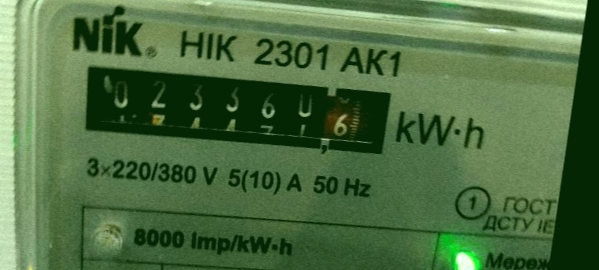0: (107, 75, 133, 112), (290, 87, 316, 121)
2: (146, 75, 171, 111)
3: (220, 79, 244, 115), (182, 80, 205, 113)
6: (255, 86, 280, 122), (328, 106, 353, 142)
screen: (61, 38, 409, 181)
